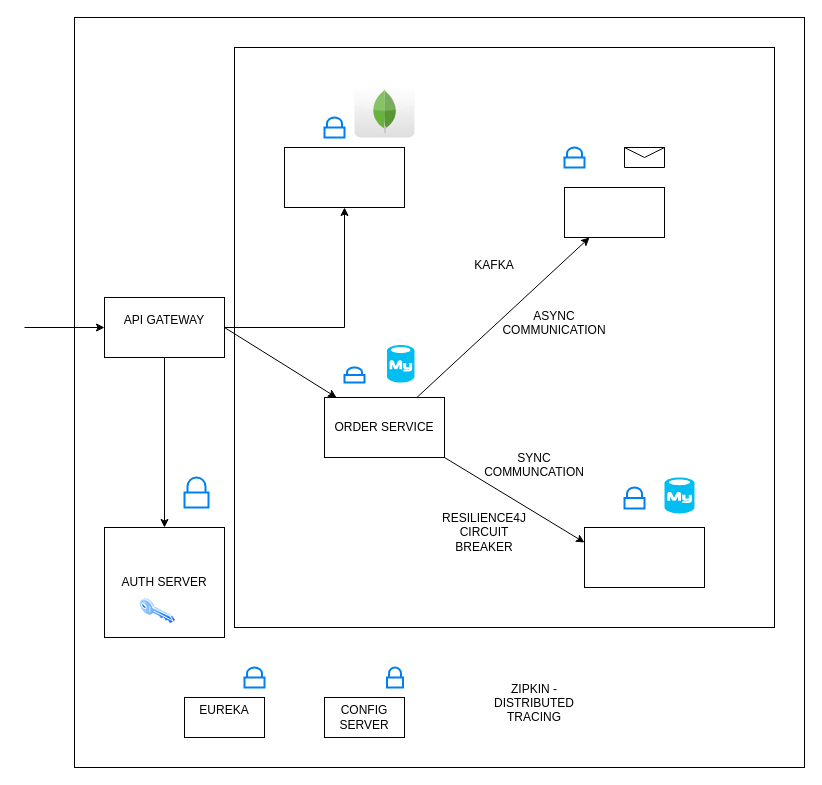
This 822x785 diagram has some shape labels left out. The centre of each missing label's shape, as x and y in pixels:
"INVENTORY SERVICE" goes at point 644,557.
"NOTIFICATION SERVICE" goes at point 614,212.
"PRODUCT SERVICE" goes at point 344,177.
